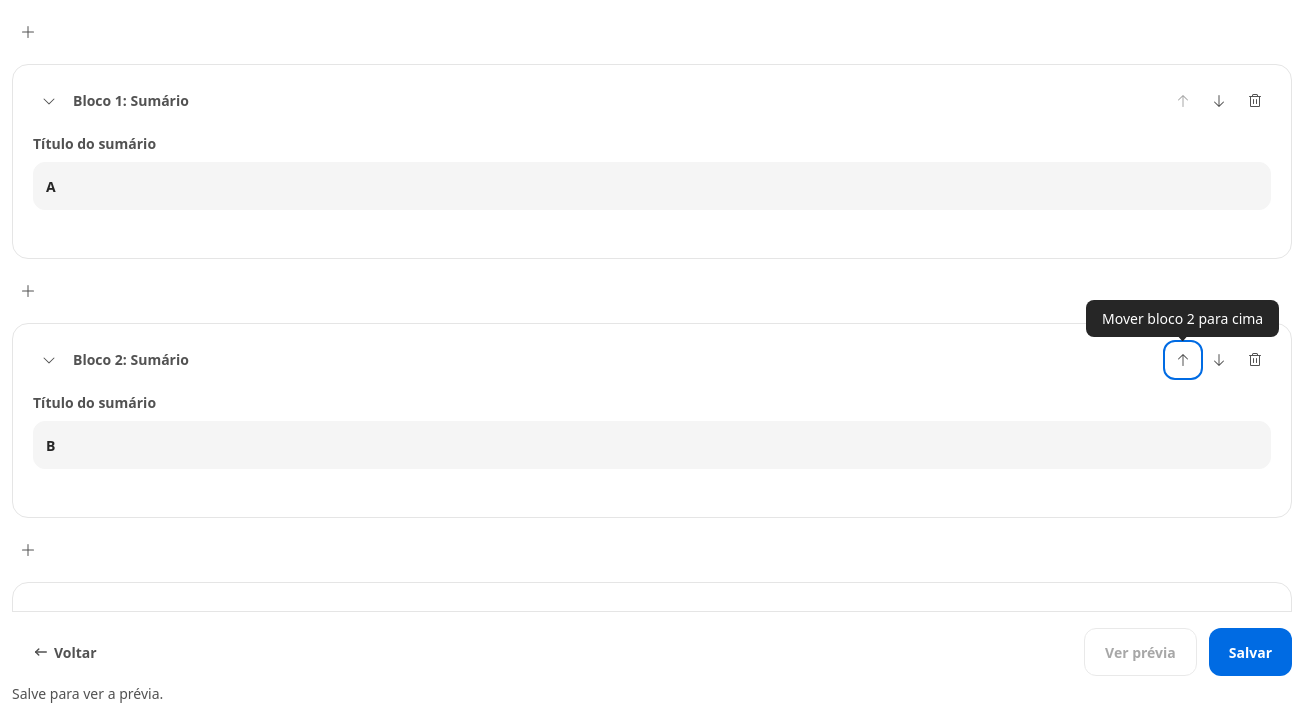
Test: editor de conteúdo › move e remove blocos só pelo teclado; os n existentes seguem para o servidor
The width and height of the screenshot is (1304, 720).
(page scrolled)
Press Enter
(page scrolled)
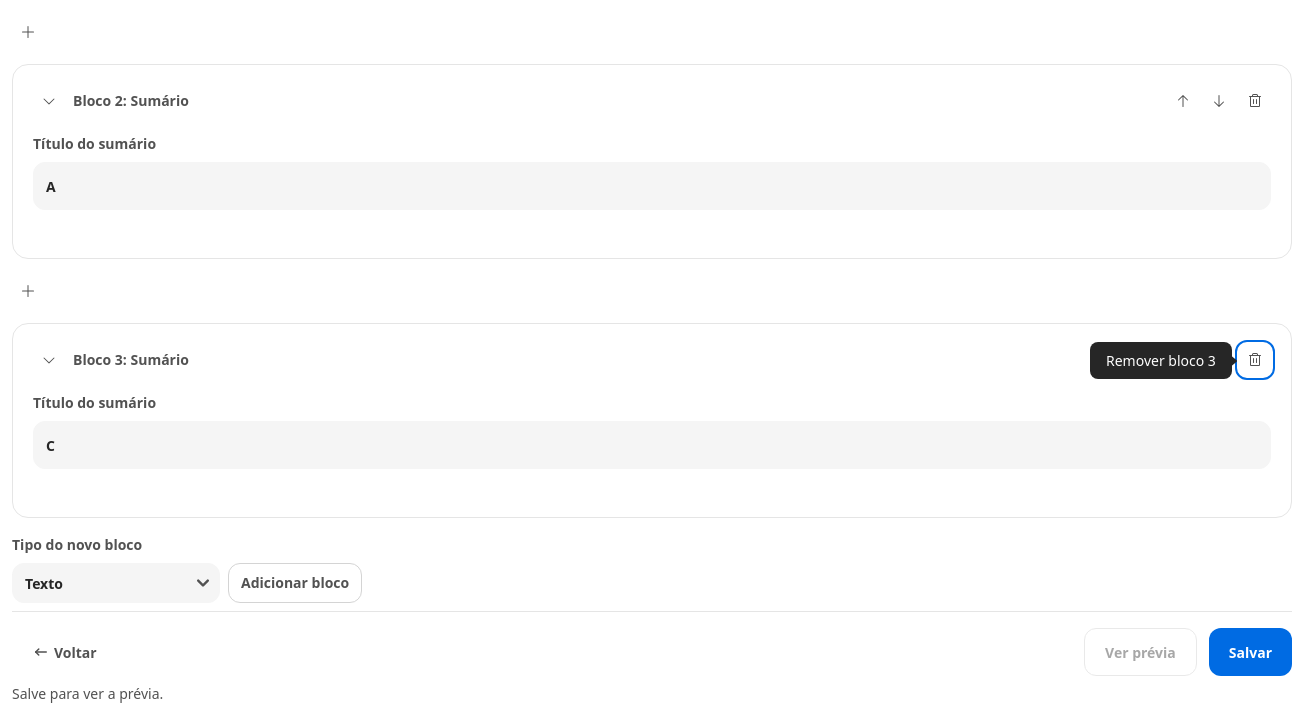
Press Enter
(page scrolled)
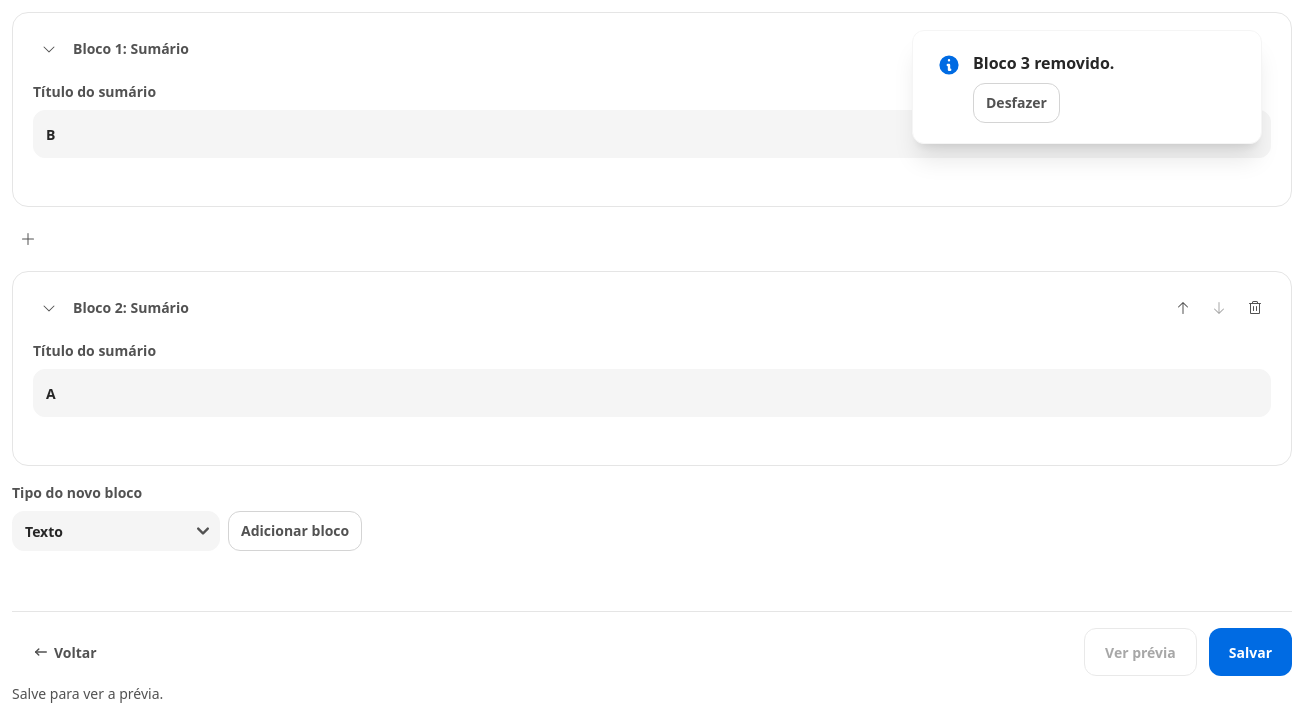
Click the button "Salvar": [1250, 652] box [1209, 628, 1292, 676]
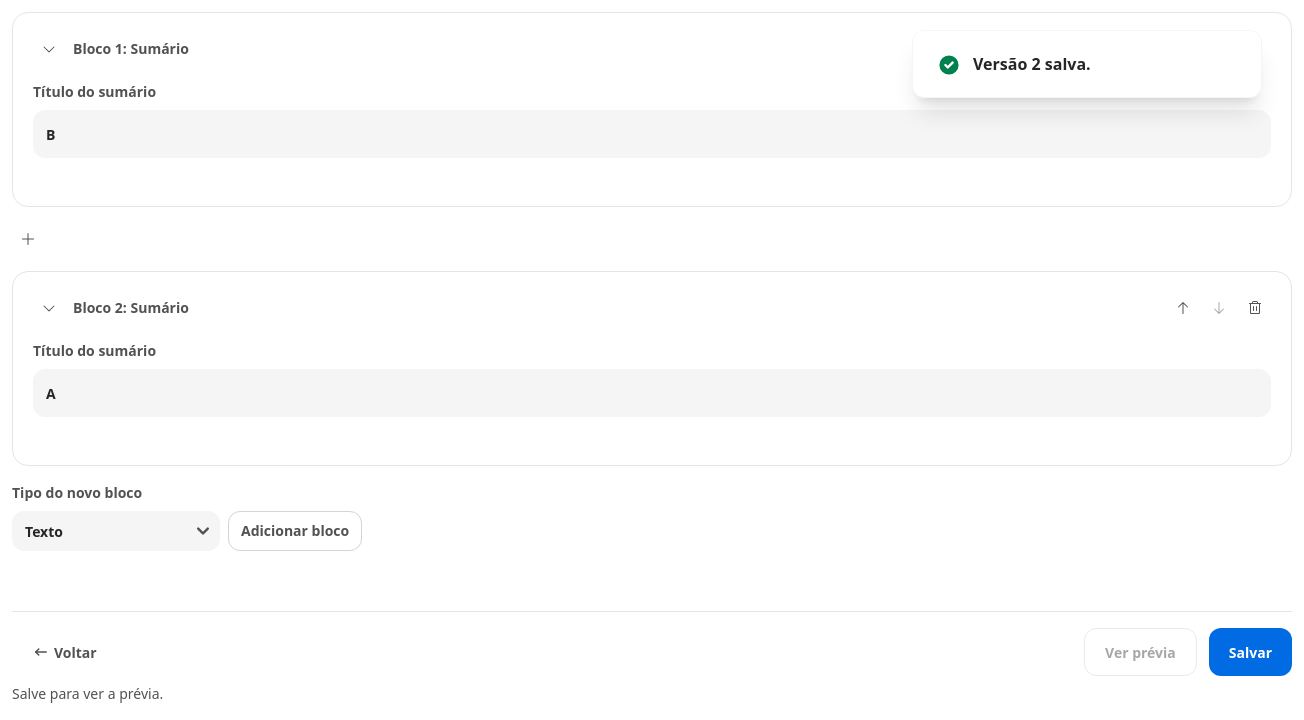
Result: the text "Versão 2 salva." is shown at [973, 52, 1091, 76]
Result: the message reads "Versão 2 salva." at [973, 53, 1091, 75]
